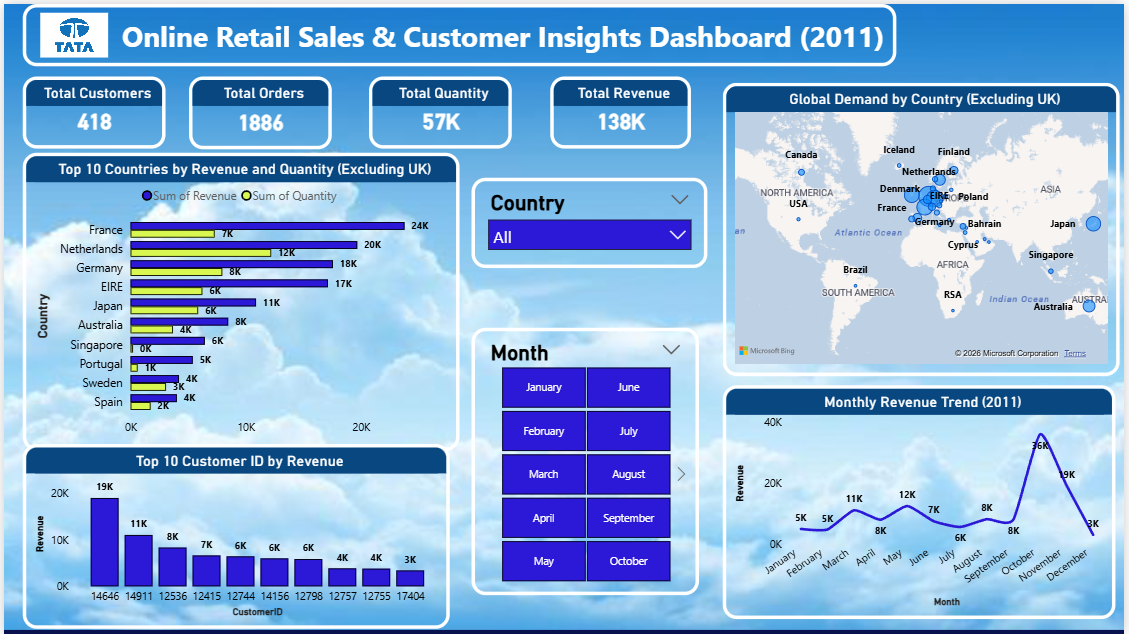

The page's visual inventory and layout, read from the dashboard file:
{"tool":"powerbi","page":{"name":"Page 1","canvas":[1280,720],"ordinal":0},"visuals":[{"type":"lineChart","title":"Monthly Revenue Trend (2011)","fields":{"Y":["Sum(Online Retail.Revenue)"],"Category":["Online Retail.InvoiceDate.Variation.Date Hierarchy.Month"]},"box":[820.9,435.6,449.1,267.5],"z":0},{"type":"clusteredBarChart","title":"Top 10 Countries by Revenue and Quantity (Excluding UK)","fields":{"Y":["Sum(Online Retail.Revenue)","Sum(Online Retail.Quantity)"],"Category":["Online Retail.Country"]},"box":[20.9,170.6,499.4,341.1],"z":1000},{"type":"clusteredColumnChart","title":"Top 10 Customer ID by Revenue","fields":{"Y":["Sum(Online Retail.Revenue)"],"Category":["Online Retail.CustomerID"]},"box":[20.9,503.1,488.3,211],"z":2000},{"type":"map","title":"Global Demand by Country (Excluding UK)","fields":{"Category":["Online Retail.Country"],"Size":["Sum(Online Retail.Quantity)"]},"box":[820.9,89.6,454,335],"z":3000},{"type":"card","title":"Total Customers","fields":{"Values":["Online Retail.Total Customers"]},"box":[20.9,83.4,163.2,82.2],"z":4000},{"type":"card","title":"Total Orders","fields":{"Values":["Online Retail.Total Orders"]},"box":[211,82.2,163.2,83.4],"z":5000},{"type":"card","title":"Total  Quantity","fields":{"Values":["Online Retail.Total Quantity"]},"box":[417.2,82.2,163.2,82.2],"z":6000},{"type":"card","title":"Total Revenue","fields":{"Values":["Online Retail.Total Revenue"]},"box":[624.5,82.2,160.7,82.2],"z":7000},{"type":"textbox","box":[20.9,0,998.8,71.2],"z":8000},{"type":"slicer","fields":{"Values":["Online Retail.Country"]},"box":[533.7,198.8,269.9,103.1],"z":9000},{"type":"slicer","fields":{"Values":["Online Retail.InvoiceDate.Variation.Date Hierarchy.Month"]},"box":[533.7,370.6,260.1,305.5],"z":10000},{"type":"image","box":[41.7,9.8,77.3,51.5],"z":11000}]}

Visuals, with their boxes in screenshot pixels (x1, y1, x2, y2), scaled from the page's 1280x720 canvas onto the 1129x634 screenshot:
"Monthly Revenue Trend (2011)" lineChart: 724,384,1120,619
"Top 10 Countries by Revenue and Quantity (Excluding UK)" clusteredBarChart: 18,150,459,451
"Top 10 Customer ID by Revenue" clusteredColumnChart: 18,443,449,629
"Global Demand by Country (Excluding UK)" map: 724,79,1125,374
"Total Customers" card: 18,73,162,146
"Total Orders" card: 186,72,330,146
"Total  Quantity" card: 368,72,512,145
"Total Revenue" card: 551,72,693,145
textbox: 18,0,899,63
slicer - Online Retail.Country: 471,175,709,266
slicer - Online Retail.InvoiceDate.Variation.Date Hierarchy.Month: 471,326,700,595
image: 37,9,105,54
